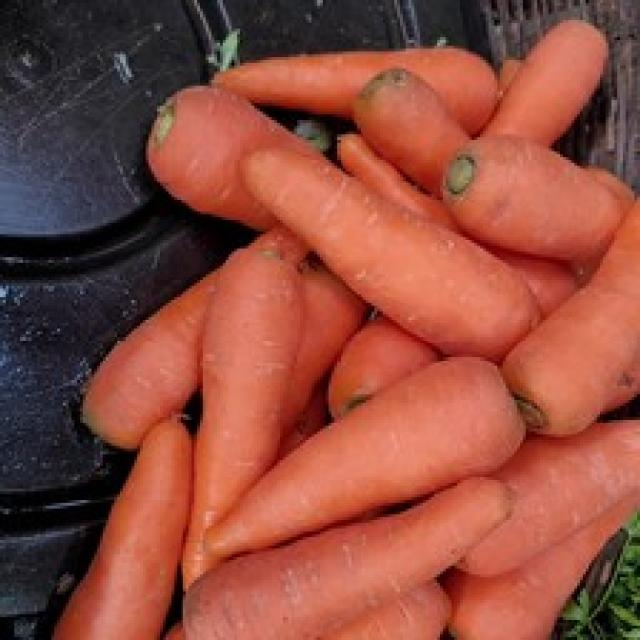carrot: (239, 136, 541, 364), (248, 365, 546, 538), (51, 408, 191, 640), (444, 137, 635, 263)
